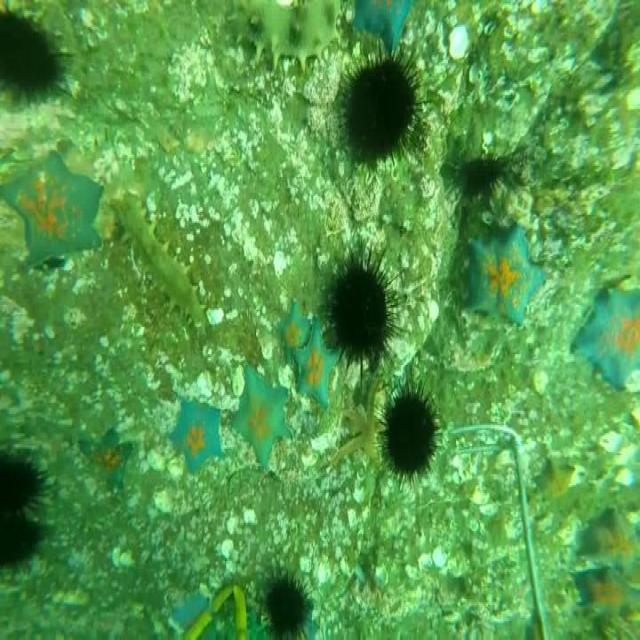echinus: (341, 46, 425, 182), (327, 242, 408, 378), (0, 8, 64, 103), (382, 389, 441, 485), (0, 451, 48, 518), (462, 156, 515, 214), (266, 570, 308, 640), (4, 498, 44, 566)
holothurian: (112, 194, 211, 335), (220, 0, 342, 68)
scallop: (152, 487, 177, 515), (145, 448, 166, 476), (598, 431, 622, 452), (432, 545, 449, 574), (232, 362, 245, 398), (614, 469, 636, 490), (372, 563, 388, 586), (532, 368, 546, 392), (417, 554, 435, 570), (204, 310, 227, 322), (219, 542, 233, 559)
starfish: (4, 155, 104, 261), (457, 223, 547, 322), (575, 283, 640, 392), (228, 370, 294, 458), (168, 400, 225, 471), (287, 329, 341, 401), (589, 507, 640, 582), (350, 0, 418, 43), (585, 577, 640, 630), (172, 589, 214, 640), (278, 307, 316, 354), (543, 452, 573, 496)
